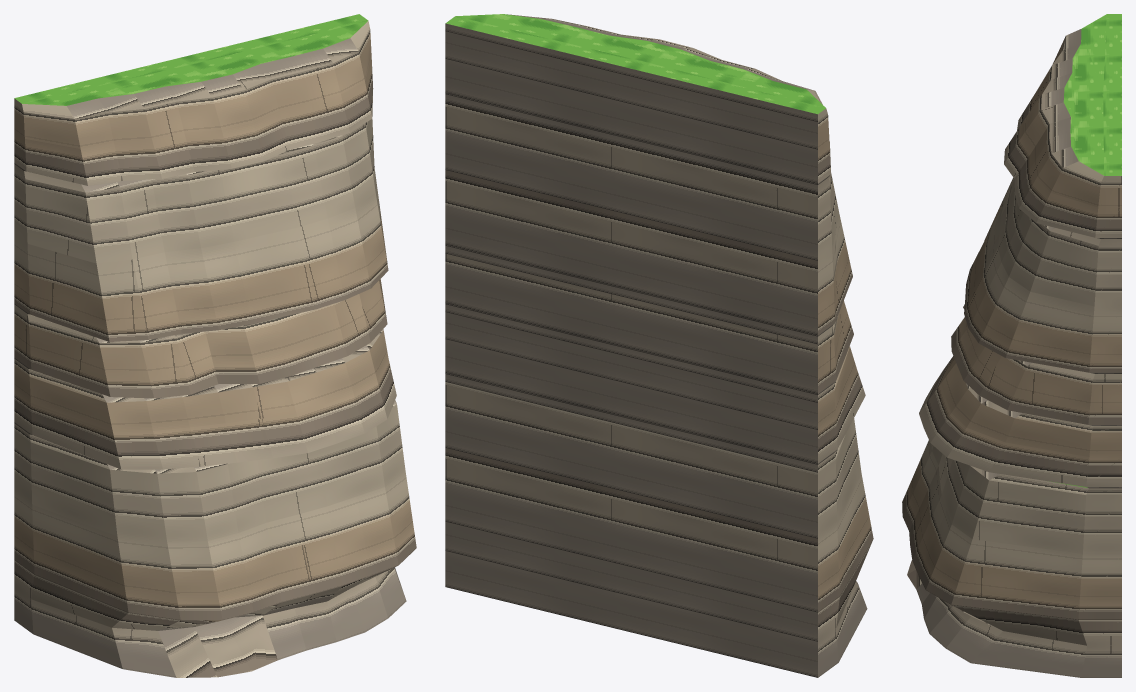
Rendered from p_bi_cliff_b.glb.
3 renders of one model, left to right at view 1: azimuth 30°, elevation 25°; view 2: azimuth 150°, elevation 25°; view 3: azimuth 270°, elevation 25°, orthographic. The views are drawn at different scales.
Visible parts, largest first — view 1: p_bi_cliff_b_lod0; view 2: p_bi_cliff_b_lod0; view 3: p_bi_cliff_b_lod0.
Part boxes in pixels (<box>): p_bi_cliff_b_lod0: <box>14,14,416,677</box>; p_bi_cliff_b_lod0: <box>445,14,873,677</box>; p_bi_cliff_b_lod0: <box>902,14,1121,677</box>.
Size of what is drawn, in the model's own units: 9 by 13.01 by 5.16.
Materials: 1 (1 with a texture image).
